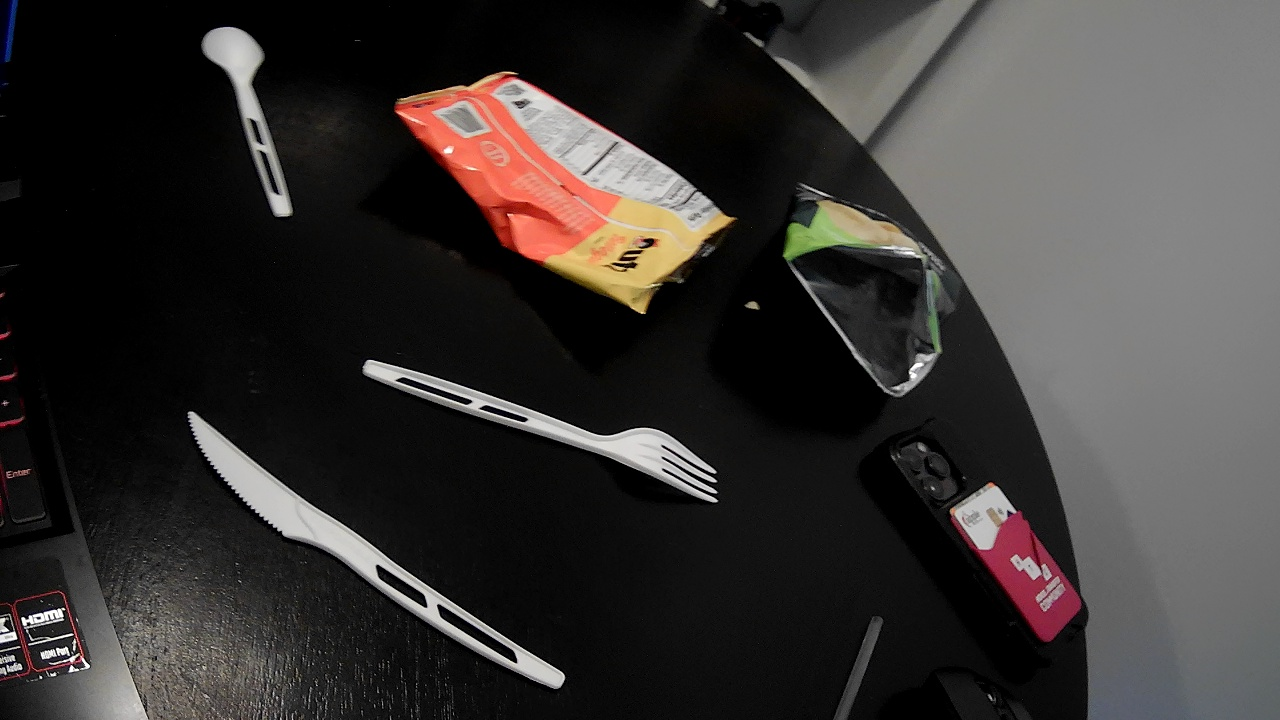trash: (148, 398, 580, 683), (352, 51, 730, 323), (346, 336, 766, 501), (768, 199, 995, 403), (182, 21, 319, 235), (814, 596, 921, 720)
